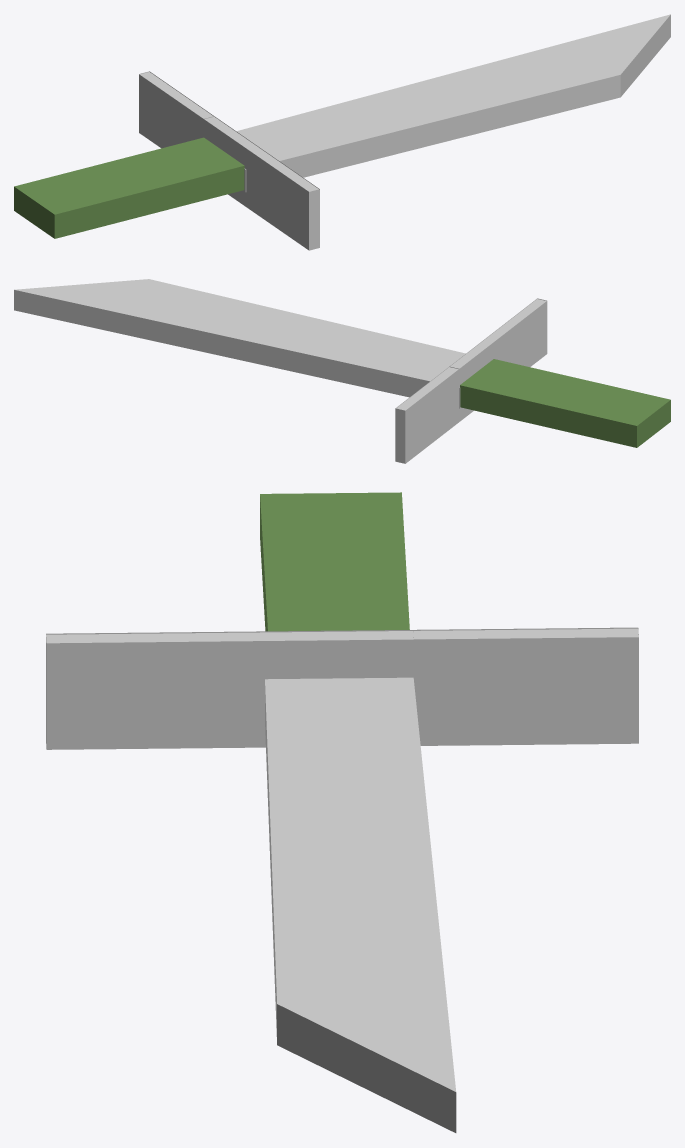
File: knife1.fbx
3 renders of one model, top to bottom at view 1: azimuth 30°, elevation 25°; view 2: azimuth 150°, elevation 25°; view 3: azimuth 270°, elevation 25°, orthographic. The views are drawn at different scales.
Visible parts, largest first — view 1: knife, knifecontroller; view 2: knife, knifecontroller; view 3: knife, knifecontroller.
Part boxes in pixels (<box>): knife: <box>139,14,670,250</box>; knifecontroller: <box>14,137,244,238</box>; knife: <box>14,279,547,463</box>; knifecontroller: <box>460,359,670,447</box>; knife: <box>46,627,638,1132</box>; knifecontroller: <box>260,492,409,631</box>.
Size of the model in its own units: 3.51 by 0.2932 by 1.48.
